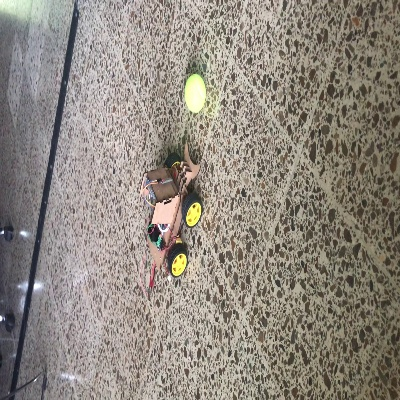Ball: (183, 73, 206, 113)
Robot: (138, 140, 203, 277)
